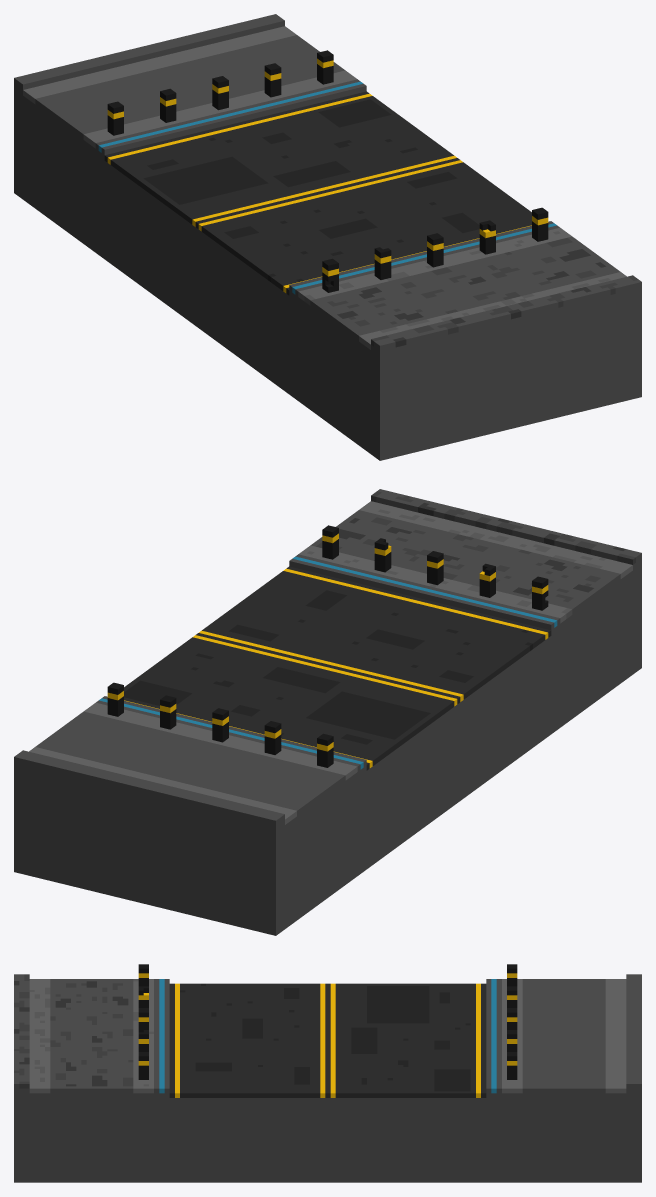
Rendered from Road1.obj.
The picture shows the model from 3 angles, top to bottom: view 1: azimuth 30°, elevation 25°; view 2: azimuth 150°, elevation 25°; view 3: azimuth 270°, elevation 25°; orthographic projection. The views are drawn at different scales.
Bounding box in the file's own units: 50 × 25 × 121.
Materials: 1 (1 with a texture image).
